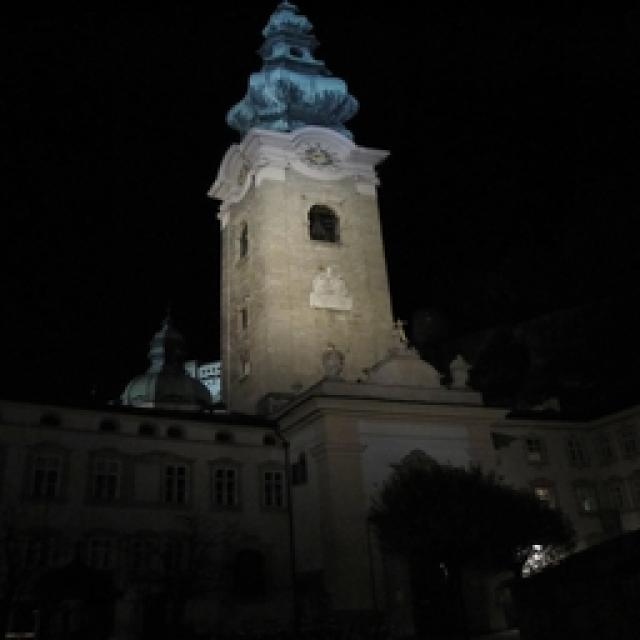Abbey: (198, 1, 446, 409)
